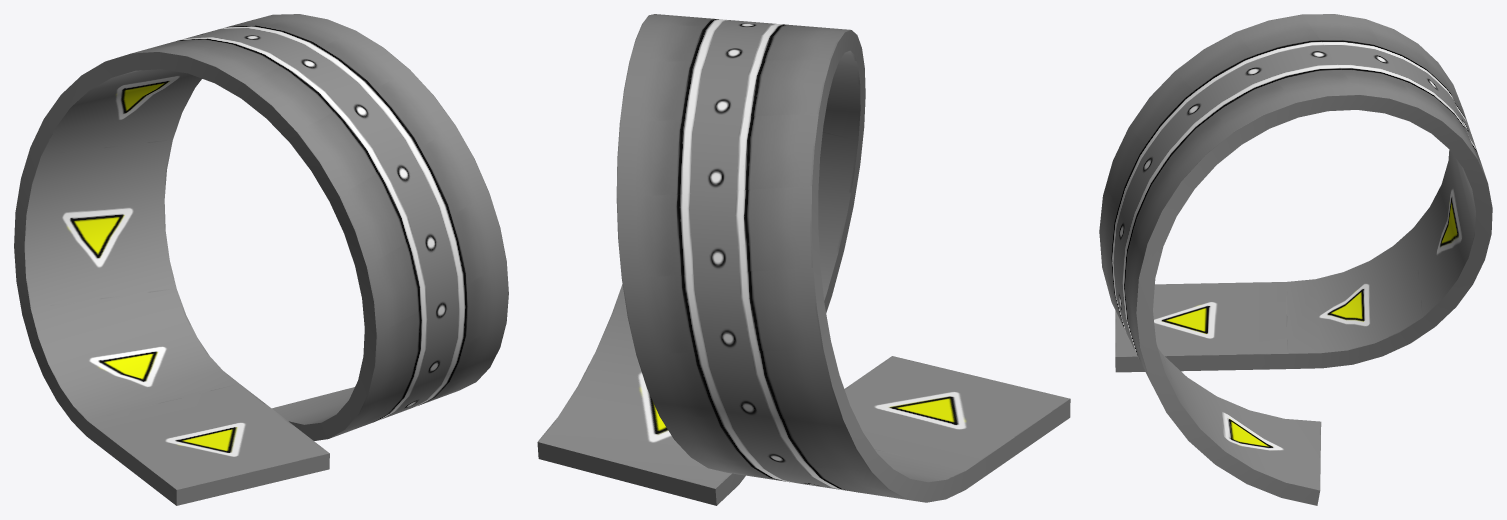
The model's file is space_loop.gltf.
3 views of the same model, side by side, from view 1: azimuth 30°, elevation 25°; view 2: azimuth 150°, elevation 25°; view 3: azimuth 270°, elevation 25° (orthographic). The views are drawn at different scales.
Parts seen in each view (by area): view 1: space_loop_glb; view 2: space_loop_glb; view 3: space_loop_glb.
Boxes of the visible parts, x1,y1,x2,y2 form: space_loop_glb: (14,14,508,505); space_loop_glb: (537,14,1070,505); space_loop_glb: (1099,14,1492,505).
Size of what is drawn, in the model's own units: 4.87 by 5.27 by 4.93.
1 material, 1 textured.
